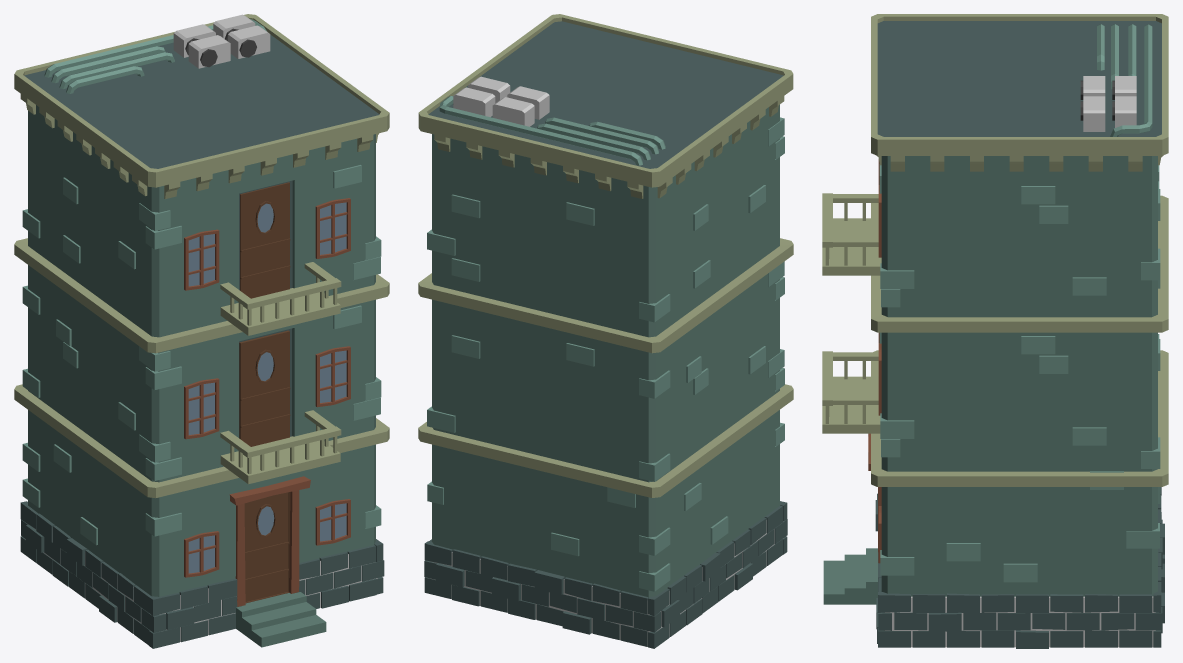
Rendered from 3Story_Balcony_Mat.gltf.
3 views of the same model, side by side, from view 1: azimuth 30°, elevation 25°; view 2: azimuth 150°, elevation 25°; view 3: azimuth 270°, elevation 25° (orthographic). The views are drawn at different scales.
Visible parts, largest first — view 1: 3Story_Balcony_Mat; view 2: 3Story_Balcony_Mat; view 3: 3Story_Balcony_Mat.
Boxes of the visible parts, box(x1,y1,x2,y2) form: 3Story_Balcony_Mat: box(14, 14, 389, 648); 3Story_Balcony_Mat: box(418, 14, 793, 648); 3Story_Balcony_Mat: box(822, 14, 1168, 648).
Bounding box in the file's own units: 2.16 × 4.21 × 2.51.
